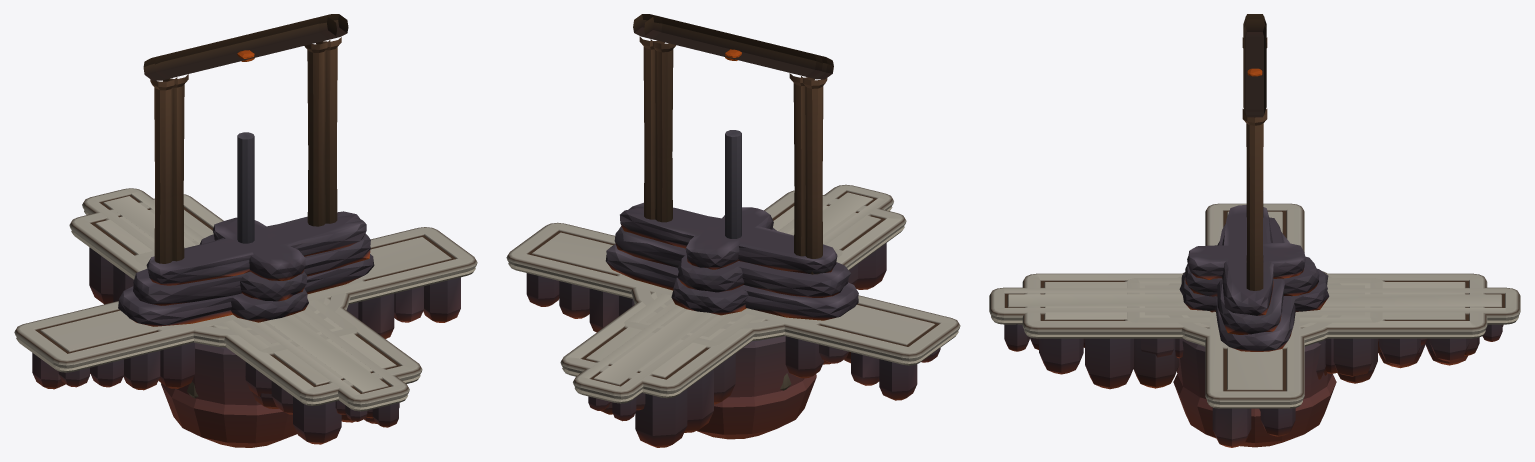
The model's file is volcano-4-CH1dcwdw.glb.
The picture shows the model from 3 angles, left to right: view 1: azimuth 30°, elevation 25°; view 2: azimuth 150°, elevation 25°; view 3: azimuth 270°, elevation 25°; orthographic projection. The views are drawn at different scales.
Visible parts, largest first — view 1: block_28x2x6#0, block_8x2x28_grate#0, spout_13x2#0, pressFrame_9x6x4x7#0, block_4x2x32_grate#0, disc_12x1.5#0, pressFrame_7.5x6x2.5x7#0, spout_2x6#0, block_7x2x16_ice#0, press_9x6x4#0; view 2: block_28x2x6#0, block_8x2x28_grate#0, spout_13x2#0, pressFrame_9x6x4x7#0, pressFrame_7.5x6x2.5x7#0, block_4x2x32_grate#0, disc_12x1.5#0, spout_2x6#0, press_9x6x4#0, block_7x2x16_ice#0; view 3: block_8x2x28_grate#0, block_4x2x32_grate#0, block_28x2x6#0, spout_13x2#0, disc_12x1.5#0, spout_2x6#0, block_7x2x16_ice#0, pressFrame_9x6x4x7#0, pressFrame_7.5x6x2.5x7#0.
Boxes of the visible parts, box(x1,y1,x2,y2) form: block_28x2x6#0: box(14, 227, 477, 390); block_8x2x28_grate#0: box(69, 194, 422, 444); spout_13x2#0: box(118, 211, 374, 326); pressFrame_9x6x4x7#0: box(143, 14, 348, 263); block_4x2x32_grate#0: box(82, 188, 409, 427); disc_12x1.5#0: box(161, 285, 350, 447); pressFrame_7.5x6x2.5x7#0: box(155, 16, 336, 261); spout_2x6#0: box(200, 217, 308, 322); block_7x2x16_ice#0: box(134, 240, 357, 408); press_9x6x4#0: box(187, 132, 254, 398); block_28x2x6#0: box(506, 222, 960, 400); block_8x2x28_grate#0: box(560, 190, 906, 447); spout_13x2#0: box(605, 202, 858, 320); pressFrame_9x6x4x7#0: box(633, 14, 833, 274); pressFrame_7.5x6x2.5x7#0: box(644, 16, 822, 256); block_4x2x32_grate#0: box(573, 184, 893, 421); disc_12x1.5#0: box(631, 281, 816, 439); spout_2x6#0: box(671, 207, 776, 315); press_9x6x4#0: box(725, 130, 791, 390); block_7x2x16_ice#0: box(623, 248, 842, 348); block_8x2x28_grate#0: box(1022, 273, 1487, 389); block_4x2x32_grate#0: box(989, 287, 1520, 355); block_28x2x6#0: box(1205, 203, 1304, 447); spout_13x2#0: box(1215, 205, 1295, 351); disc_12x1.5#0: box(1168, 271, 1341, 447); spout_2x6#0: box(1179, 242, 1329, 312); block_7x2x16_ice#0: box(1124, 278, 1385, 388); pressFrame_9x6x4x7#0: box(1242, 14, 1267, 290); pressFrame_7.5x6x2.5x7#0: box(1242, 19, 1267, 260).
Size of the model in its own units: 28 by 25.13 by 32.
